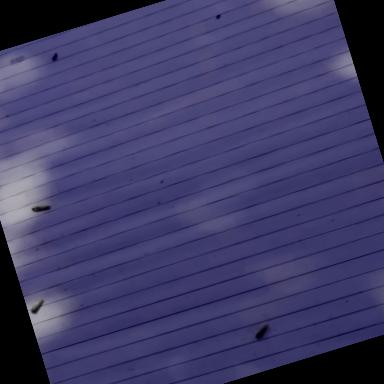pbw: (252, 322, 270, 340), (29, 298, 47, 314), (31, 201, 52, 214)
